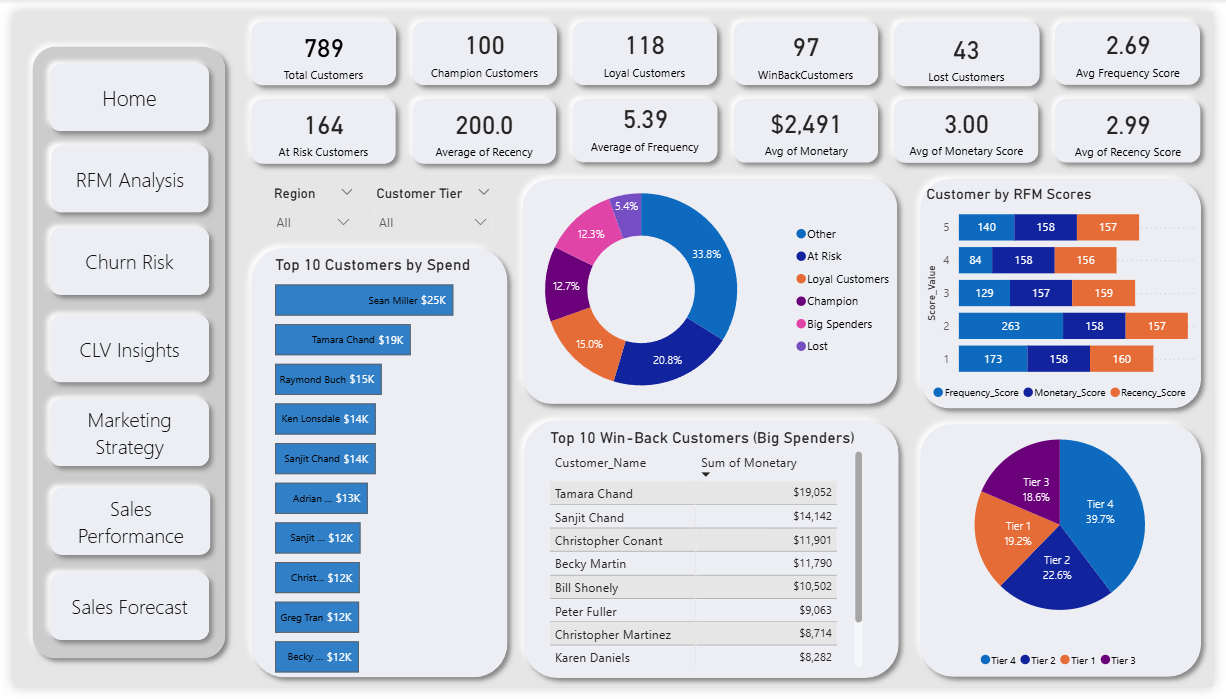

What the dashboard file says about the page in this screenshot:
{"tool":"powerbi","page":{"name":"RFM Analysis","canvas":[1280,720],"ordinal":1},"visuals":[{"type":"group","id":"g1","title":"Group 1","box":[243.3,83,174.3,89.3],"z":0,"group":"g42"},{"type":"group","id":"g2","title":"Group 4","box":[414.8,83,173.2,89.3],"z":0,"group":"g50"},{"type":"group","id":"g3","title":"Group 14","box":[533.4,167.8,420,260],"z":0,"group":"g45"},{"type":"group","id":"g4","title":"Group 4","box":[533.4,167.8,420,260],"z":0,"group":"g3"},{"type":"group","id":"g5","title":"Group 14","box":[957.2,168.3,320,265],"z":0,"group":"g38"},{"type":"group","id":"g6","title":"Group 4","box":[957.2,168.3,320,265],"z":0,"group":"g5"},{"type":"group","id":"g7","title":"Group 1","box":[535,425,420,295],"z":0},{"type":"group","id":"g8","title":"Group 14","box":[956.6,428.7,320,289.7],"z":0,"group":"g43"},{"type":"group","id":"g9","title":"Group 4","box":[956.6,428.7,320,289.7],"z":0,"group":"g8"},{"type":"group","id":"g10","title":"Group 3","box":[929.1,0,175.8,89.3],"z":1000,"group":"g51"},{"type":"group","id":"g11","title":"Group 1","box":[929.1,0,175.8,89.3],"z":1000,"group":"g10"},{"type":"group","id":"g12","title":"Group 17","box":[1100.6,83,174.4,88.6],"z":1000,"group":"g39"},{"type":"donutChart","title":"RFM Segment Distribution","fields":{"Category":["vw_RFM_Segments.RFM_Segment"],"Y":["CountNonNull(vw_RFM_Segments.Customer_ID)"]},"box":[505.8,139.8,438.3,311.7],"z":1000,"group":"g45"},{"type":"pivotTable","title":"Top 10 Win-Back Customers (Big Spenders)","fields":{"Rows":["vw_RFM_Segments.Customer_Name"],"Values":["Sum(vw_RFM_Segments.Monetary)"]},"box":[568.3,443.3,343.3,260],"z":1000},{"type":"group","id":"g13","title":"Group 1","box":[414.8,83,173.2,89.3],"z":2000,"group":"g2"},{"type":"group","id":"g14","title":"Group 1","box":[533.4,167.8,420,260],"z":2000,"group":"g4"},{"type":"group","id":"g15","title":"Group 1","box":[957.2,168.3,320,265],"z":2000,"group":"g6"},{"type":"group","id":"g16","title":"Group 4","box":[243.3,241.7,293.3,478.3],"z":2000},{"type":"group","id":"g17","title":"Group 1","box":[243.3,241.7,293.3,478.3],"z":2000,"group":"g16"},{"type":"group","id":"g18","title":"Group 1","box":[956.6,428.7,320,289.7],"z":2000,"group":"g9"},{"type":"group","id":"g19","title":"Group 10","box":[757.7,83,174.1,88.1],"z":2500,"group":"g54"},{"type":"group","id":"g20","title":"Group 9","box":[757.7,0,174.3,88.1],"z":3000,"group":"g49"},{"type":"card","fields":{"Values":["tbl_Measure.Lost Customers"]},"box":[945.2,10.6,143.4,73.4],"z":3000,"group":"g51"},{"type":"card","fields":{"Values":["Avg(vw_RFM_Segments.Monetary)"]},"box":[766.4,87.4,156.7,79.3],"z":3000,"group":"g54"},{"type":"slicer","fields":{"Values":["vw_RFM_Segments.Customer Tier"]},"box":[375,180,146.7,78.3],"z":3000},{"type":"group","id":"g21","title":"Group 6","box":[1100.6,83,175.3,88.1],"z":3500,"group":"g12"},{"type":"group","id":"g22","title":"Group 8","box":[586.2,0,174.3,88.1],"z":4000,"group":"g48"},{"type":"group","id":"g23","title":"Group 1","box":[757.7,0,174.3,88.1],"z":4000,"group":"g20"},{"type":"card","fields":{"Values":["Avg(vw_RFM_Segments.Recency_Score)"]},"box":[1109.4,91.8,157.8,70.5],"z":4000,"group":"g12"},{"type":"clusteredBarChart","title":"Top 10 Customers by Spend","fields":{"Category":["vw_RFM_Segments.Customer_Name"],"Y":["Sum(vw_RFM_Segments.Monetary)"]},"box":[275,258.3,235,451.7],"z":4000},{"type":"pieChart","title":"Customers by Tier","fields":{"Category":["vw_RFM_Segments.Customer Tier"],"Y":["CountNonNull(vw_RFM_Segments.Customer_ID)"]},"box":[953,411.9,326.9,302.8],"z":4000,"group":"g43"},{"type":"group","id":"g24","title":"Group 10","box":[1100.6,0,174.9,87.8],"z":4500,"group":"g55"},{"type":"group","id":"g25","title":"Group 10","box":[586.2,83,174.9,87.8],"z":4500,"group":"g61"},{"type":"group","id":"g26","title":"Group 7","box":[414.8,0,174.3,88.1],"z":5000,"group":"g46"},{"type":"group","id":"g27","title":"Group 1","box":[586.2,0,174.3,88.1],"z":5000,"group":"g22"},{"type":"group","id":"g28","title":"Group 7","box":[1100.6,0,174.9,87.8],"z":5000,"group":"g24"},{"type":"card","title":"avg","fields":{"Values":["Avg(vw_RFM_Segments.Frequency_Score)"]},"box":[1115,7.2,147.1,71.6],"z":5000,"group":"g55"},{"type":"group","id":"g29","title":"Group 7","box":[586.2,83,174.9,87.8],"z":5000,"group":"g25"},{"type":"group","id":"g30","title":"Group 7","box":[757.7,83,174.1,88.1],"z":5000,"group":"g19"},{"type":"group","id":"g31","title":"Group 7","box":[929.1,83,174.4,88.2],"z":5000,"group":"g32"},{"type":"slicer","fields":{"Values":["Superstore 2025.Region"]},"box":[265,180,110,61.7],"z":5000},{"type":"barChart","title":"Customer by RFM Scores","fields":{"Category":["RFM_Scores_Unpivoted.Score_Value"],"Y":["CountNonNull(RFM_Scores_Unpivoted.Customer_ID)"],"Series":["RFM_Scores_Unpivoted.Score_Type"]},"box":[969.8,186.1,298.3,238.3],"z":5000,"group":"g38"},{"type":"group","id":"g32","title":"Group 10","box":[929.1,83,174.4,88.2],"z":5500,"group":"g52"},{"type":"group","id":"g33","title":"Group 1","box":[414.8,0,174.3,88.1],"z":6000,"group":"g26"},{"type":"group","id":"g34","title":"Group 1","box":[1100.6,0,174.9,87.8],"z":6000,"group":"g28"},{"type":"group","id":"g35","title":"Group 1","box":[586.2,83,174.9,87.8],"z":6000,"group":"g29"},{"type":"group","id":"g36","title":"Group 1","box":[757.7,83,174.1,88.1],"z":6000,"group":"g30"},{"type":"group","id":"g37","title":"Group 1","box":[929.1,83,174.4,88.2],"z":6000,"group":"g31"},{"type":"card","fields":{"Values":["Avg(vw_RFM_Segments.Monetary_Score)"]},"box":[937.8,87.4,156.9,79.4],"z":6000,"group":"g52"},{"type":"card","fields":{"Values":["Avg(vw_RFM_Segments.Recency)"]},"box":[430.9,91.4,141.3,73.4],"z":6000,"group":"g50"},{"type":"group","id":"g38","title":"Group 20","box":[957.2,168.3,320,265],"z":6000},{"type":"group","id":"g39","title":"Group 21","box":[243.3,0,1031.7,171.7],"z":7000},{"type":"group","id":"g40","title":"Group 1","box":[243.3,0,174.6,88.2],"z":7000,"group":"g44"},{"type":"card","fields":{"Values":["tbl_Measure.Champion Customers"]},"box":[431.2,7.3,142.2,72.4],"z":7000,"group":"g46"},{"type":"group","id":"g41","title":"Group 1","box":[1100.6,83,175.3,88.1],"z":7000,"group":"g21"},{"type":"card","fields":{"Values":["tbl_Measure.Customer Count"]},"box":[259.2,9.6,142.9,72.2],"z":8000,"group":"g44"},{"type":"group","id":"g42","title":"Group 2","box":[243.3,83,174.4,88.7],"z":8000,"group":"g39"},{"type":"group","id":"g43","title":"Group 22","box":[953,411.9,326.9,306.5],"z":8000},{"type":"group","id":"g44","title":"Group 6","box":[243.3,0,174.4,88.7],"z":9000,"group":"g39"},{"type":"group","id":"g45","title":"Group 23","box":[505.8,139.8,447.6,311.7],"z":9000},{"type":"group","id":"g46","title":"Group 10","box":[414.8,0,174.4,88.6],"z":10000,"group":"g39"},{"type":"group","id":"g47","title":"Group 10","box":[10.1,26.4,226,674],"z":10000},{"type":"group","id":"g48","title":"Group 11","box":[586.2,0,174.4,88.6],"z":11000,"group":"g39"},{"type":"group","id":"g49","title":"Group 12","box":[757.7,0,174.4,88.6],"z":12000,"group":"g39"},{"type":"group","id":"g50","title":"Group 14","box":[414.8,83,174.4,88.6],"z":13000,"group":"g39"},{"type":"card","fields":{"Values":["Avg(vw_RFM_Segments.Frequency)"]},"box":[601.4,84.4,145.6,75],"z":13000,"group":"g63"},{"type":"group","id":"g51","title":"Group 15","box":[929.1,0,174.4,88.6],"z":14000,"group":"g39"},{"type":"group","id":"g52","title":"Group 16","box":[929.1,83,174.4,87.3],"z":15000,"group":"g39"},{"type":"group","id":"g53","title":"Group 1","box":[10.1,26.4,226,674],"z":16000,"group":"g47"},{"type":"group","id":"g54","title":"Group 18","box":[757.7,83,174.4,88.6],"z":16000,"group":"g39"},{"type":"group","id":"g55","title":"Group 19","box":[1100.6,0,174.4,87.3],"z":17000,"group":"g39"},{"type":"group","id":"g56","title":"Group 1","box":[30.2,496.8,190,92],"z":17000,"group":"g47"},{"type":"card","fields":{"Values":["tbl_Measure.Loyal Customers"]},"box":[601.9,7.3,142.2,72.4],"z":18000,"group":"g48"},{"type":"group","id":"g57","title":"Group 5","box":[586.2,83,174.4,87.3],"z":18000,"group":"g39"},{"type":"card","fields":{"Values":["tbl_Measure.At Risk Customers"]},"box":[259.7,91.1,142.6,73.1],"z":18000,"group":"g42"},{"type":"group","id":"g58","title":"Group 1","box":[29,587.4,190,92],"z":18000,"group":"g47"},{"type":"group","id":"g59","title":"Group 1","box":[29,401.9,190,92],"z":19000,"group":"g47"},{"type":"shape","box":[243.3,0,174.6,88.2],"z":19500,"group":"g40"},{"type":"shape","box":[414.8,0,174.3,88.1],"z":19500,"group":"g33"},{"type":"shape","box":[586.2,0,174.3,88.1],"z":19500,"group":"g27"},{"type":"shape","box":[757.7,0,174.3,88.1],"z":19500,"group":"g23"},{"type":"shape","box":[929.1,0,175.8,89.3],"z":19500,"group":"g11"},{"type":"shape","box":[1100.6,0,174.9,87.8],"z":19500,"group":"g34"},{"type":"shape","box":[10.1,26.4,226,673],"z":19500,"group":"g53"},{"type":"shape","box":[29,44.5,190,91.9],"z":19500,"group":"g65"},{"type":"shape","box":[243.3,83,174.3,89.3],"z":19500,"group":"g1"},{"type":"shape","box":[414.8,83,173.2,89.3],"z":19500,"group":"g13"},{"type":"shape","box":[586.2,83,174.9,87.8],"z":19500,"group":"g35"},{"type":"shape","box":[757.7,83,174.1,88.1],"z":19500,"group":"g36"},{"type":"shape","box":[929.1,83,174.4,88.2],"z":19500,"group":"g37"},{"type":"shape","box":[1100.6,83,175.3,88.1],"z":19500,"group":"g41"},{"type":"shape","box":[29,132,188.1,91.9],"z":19500,"group":"g64"},{"type":"shape","box":[533.4,167.8,420,260],"z":19500,"group":"g14"},{"type":"shape","box":[957.2,168.3,320,265],"z":19500,"group":"g15"},{"type":"shape","box":[29,219.6,190,91.9],"z":19500,"group":"g62"},{"type":"shape","box":[243.3,241.7,293.3,478.3],"z":19500,"group":"g17"},{"type":"shape","box":[29,313.2,190,91.9],"z":19500,"group":"g60"},{"type":"shape","box":[29,401.9,190,91.9],"z":19500,"group":"g59"},{"type":"shape","box":[535,425,420,295],"z":19500,"group":"g7"},{"type":"shape","box":[956.6,428.7,320,289.7],"z":19500,"group":"g18"},{"type":"shape","box":[30.2,496.8,190,91.9],"z":19500,"group":"g56"},{"type":"shape","box":[29,587.4,190,91.9],"z":19500,"group":"g58"},{"type":"shape","box":[243.3,0,174.6,88.2],"z":20000,"group":"g40"},{"type":"shape","box":[414.8,0,174.3,88.1],"z":20000,"group":"g33"},{"type":"shape","box":[586.2,0,174.3,88.1],"z":20000,"group":"g27"},{"type":"shape","box":[757.7,0,174.3,88.1],"z":20000,"group":"g23"},{"type":"shape","box":[929.1,0,175.8,89.3],"z":20000,"group":"g11"},{"type":"shape","box":[1100.6,0,174.9,87.8],"z":20000,"group":"g34"},{"type":"shape","box":[10.1,26.4,226,673],"z":20000,"group":"g53"},{"type":"shape","box":[29,44.5,190,91.9],"z":20000,"group":"g65"},{"type":"shape","box":[243.3,83,174.3,89.3],"z":20000,"group":"g1"},{"type":"shape","box":[414.8,83,173.2,89.3],"z":20000,"group":"g13"},{"type":"shape","box":[586.2,83,174.9,87.8],"z":20000,"group":"g35"},{"type":"shape","box":[757.7,83,174.1,88.1],"z":20000,"group":"g36"},{"type":"shape","box":[929.1,83,174.4,88.2],"z":20000,"group":"g37"},{"type":"shape","box":[1100.6,83,175.3,88.1],"z":20000,"group":"g41"},{"type":"shape","box":[30.9,132,188.1,92],"z":20000,"group":"g64"},{"type":"shape","box":[533.4,167.8,420,260],"z":20000,"group":"g14"},{"type":"shape","box":[957.2,168.3,320,265],"z":20000,"group":"g15"},{"type":"shape","box":[29,219.6,190,91.9],"z":20000,"group":"g62"},{"type":"shape","box":[243.3,241.7,293.3,478.3],"z":20000,"group":"g17"},{"type":"group","id":"g60","title":"Group 1","box":[29,313.2,190,92],"z":20000,"group":"g47"},{"type":"shape","box":[29,313.2,190,91.9],"z":20000,"group":"g60"},{"type":"shape","box":[29,401.9,190,91.9],"z":20000,"group":"g59"},{"type":"shape","box":[535,425,420,295],"z":20000,"group":"g7"},{"type":"shape","box":[956.6,428.7,320,289.7],"z":20000,"group":"g18"},{"type":"shape","box":[30.2,496.8,190,91.9],"z":20000,"group":"g56"},{"type":"shape","box":[29,587.4,190,91.9],"z":20000,"group":"g58"},{"type":"group","id":"g61","title":"Group 19","box":[586.2,83,174.9,87.8],"z":20501,"group":"g57"},{"type":"group","id":"g62","title":"Group 1","box":[29,219.6,190,92],"z":21000,"group":"g47"},{"type":"group","id":"g63","title":"Group 13","box":[601.4,84.4,145.6,75],"z":21001,"group":"g57"},{"type":"card","fields":{"Values":["tbl_Measure.WinBackCustomers"]},"box":[773.7,9.5,142.2,71.3],"z":22000,"group":"g49"},{"type":"group","id":"g64","title":"Group 1","box":[29,132,190,92],"z":22000,"group":"g47"},{"type":"group","id":"g65","title":"Group 1","box":[29,44.5,190,92],"z":23000,"group":"g47"}]}

Visuals, with their boxes in screenshot pixels (x1, y1, x2, y2), scaled from the page's 1280x720 canvas onto the 1226x699 screenshot:
"Group 1" group: [233,81,400,167]
"Group 4" group: [397,81,563,167]
"Group 14" group: [511,163,913,415]
"Group 4" group: [511,163,913,415]
"Group 14" group: [917,163,1223,421]
"Group 4" group: [917,163,1223,421]
"Group 1" group: [512,413,915,698]
"Group 14" group: [916,416,1223,697]
"Group 4" group: [916,416,1223,697]
"Group 3" group: [890,0,1058,87]
"Group 1" group: [890,0,1058,87]
"Group 17" group: [1054,81,1221,167]
"RFM Segment Distribution" donutChart: [484,136,904,438]
"Top 10 Win-Back Customers (Big Spenders)" pivotTable: [544,430,873,683]
"Group 1" group: [397,81,563,167]
"Group 1" group: [511,163,913,415]
"Group 1" group: [917,163,1223,421]
"Group 4" group: [233,235,514,698]
"Group 1" group: [233,235,514,698]
"Group 1" group: [916,416,1223,697]
"Group 10" group: [726,81,892,166]
"Group 9" group: [726,0,893,86]
card - tbl_Measure.Lost Customers: [905,10,1043,82]
card - Avg(vw_RFM_Segments.Monetary): [734,85,884,162]
slicer - vw_RFM_Segments.Customer Tier: [359,175,500,251]
"Group 6" group: [1054,81,1222,166]
"Group 8" group: [561,0,728,86]
"Group 1" group: [726,0,893,86]
card - Avg(vw_RFM_Segments.Recency_Score): [1063,89,1214,158]
"Top 10 Customers by Spend" clusteredBarChart: [263,251,488,689]
"Customers by Tier" pieChart: [913,400,1225,694]
"Group 10" group: [1054,0,1222,85]
"Group 10" group: [561,81,729,166]
"Group 7" group: [397,0,564,86]
"Group 1" group: [561,0,728,86]
"Group 7" group: [1054,0,1222,85]
"avg" card: [1068,7,1209,77]
"Group 7" group: [561,81,729,166]
"Group 7" group: [726,81,892,166]
"Group 7" group: [890,81,1057,166]
slicer - Superstore 2025.Region: [254,175,359,235]
"Customer by RFM Scores" barChart: [929,181,1215,412]
"Group 10" group: [890,81,1057,166]
"Group 1" group: [397,0,564,86]
"Group 1" group: [1054,0,1222,85]
"Group 1" group: [561,81,729,166]
"Group 1" group: [726,81,892,166]
"Group 1" group: [890,81,1057,166]
card - Avg(vw_RFM_Segments.Monetary_Score): [898,85,1049,162]
card - Avg(vw_RFM_Segments.Recency): [413,89,548,160]
"Group 20" group: [917,163,1223,421]
"Group 21" group: [233,0,1221,167]
"Group 1" group: [233,0,400,86]
card - tbl_Measure.Champion Customers: [413,7,549,77]
"Group 1" group: [1054,81,1222,166]
card - tbl_Measure.Customer Count: [248,9,385,79]
"Group 2" group: [233,81,400,167]
"Group 22" group: [913,400,1225,697]
"Group 6" group: [233,0,400,86]
"Group 23" group: [484,136,913,438]
"Group 10" group: [397,0,564,86]
"Group 10" group: [10,26,226,680]
"Group 11" group: [561,0,729,86]
"Group 12" group: [726,0,893,86]
"Group 14" group: [397,81,564,167]
card - Avg(vw_RFM_Segments.Frequency): [576,82,715,155]
"Group 15" group: [890,0,1057,86]
"Group 16" group: [890,81,1057,165]
"Group 1" group: [10,26,226,680]
"Group 18" group: [726,81,893,167]
"Group 19" group: [1054,0,1221,85]
"Group 1" group: [29,482,211,572]
card - tbl_Measure.Loyal Customers: [577,7,713,77]
"Group 5" group: [561,81,729,165]
card - tbl_Measure.At Risk Customers: [249,88,385,159]
"Group 1" group: [28,570,210,660]
"Group 1" group: [28,390,210,479]
shape: [233,0,400,86]
shape: [397,0,564,86]
shape: [561,0,728,86]
shape: [726,0,893,86]
shape: [890,0,1058,87]
shape: [1054,0,1222,85]
shape: [10,26,226,679]
shape: [28,43,210,132]
shape: [233,81,400,167]
shape: [397,81,563,167]
shape: [561,81,729,166]
shape: [726,81,892,166]
shape: [890,81,1057,166]
shape: [1054,81,1222,166]
shape: [28,128,208,217]
shape: [511,163,913,415]
shape: [917,163,1223,421]
shape: [28,213,210,302]
shape: [233,235,514,698]
shape: [28,304,210,393]
shape: [28,390,210,479]
shape: [512,413,915,698]
shape: [916,416,1223,697]
shape: [29,482,211,572]
shape: [28,570,210,659]
shape: [233,0,400,86]
shape: [397,0,564,86]
shape: [561,0,728,86]
shape: [726,0,893,86]
shape: [890,0,1058,87]
shape: [1054,0,1222,85]
shape: [10,26,226,679]
shape: [28,43,210,132]
shape: [233,81,400,167]
shape: [397,81,563,167]
shape: [561,81,729,166]
shape: [726,81,892,166]
shape: [890,81,1057,166]
shape: [1054,81,1222,166]
shape: [30,128,210,217]
shape: [511,163,913,415]
shape: [917,163,1223,421]
shape: [28,213,210,302]
shape: [233,235,514,698]
"Group 1" group: [28,304,210,393]
shape: [28,304,210,393]
shape: [28,390,210,479]
shape: [512,413,915,698]
shape: [916,416,1223,697]
shape: [29,482,211,572]
shape: [28,570,210,659]
"Group 19" group: [561,81,729,166]
"Group 1" group: [28,213,210,303]
"Group 13" group: [576,82,715,155]
card - tbl_Measure.WinBackCustomers: [741,9,877,78]
"Group 1" group: [28,128,210,217]
"Group 1" group: [28,43,210,133]
